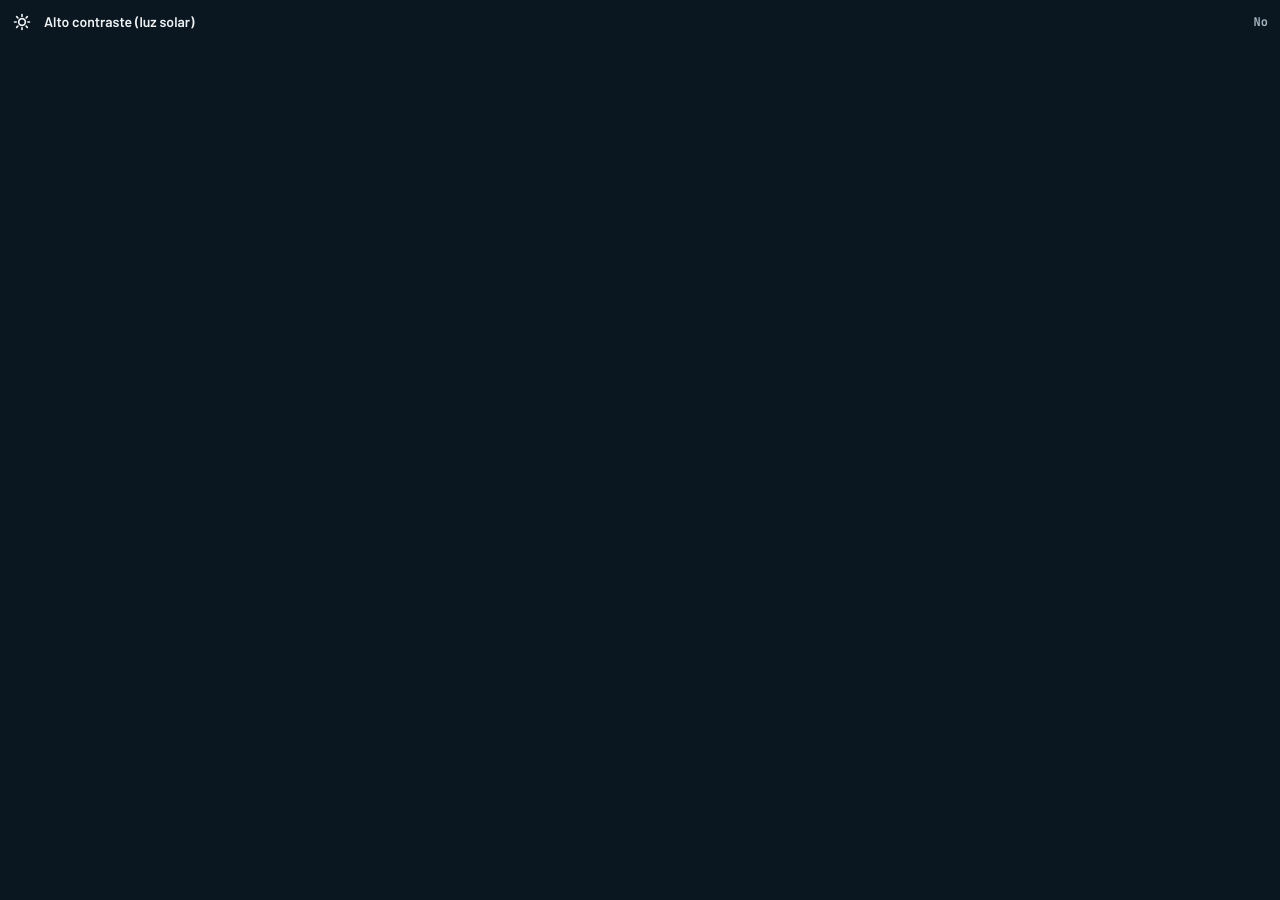
Test: interruptor de alto contraste › activa el tema claro, lo recuerda y se puede apagar
Later steps or results of the test are not shown.
Click the switch with test id "theme-toggle" at (119, 22), box [0, 0, 1279, 44]
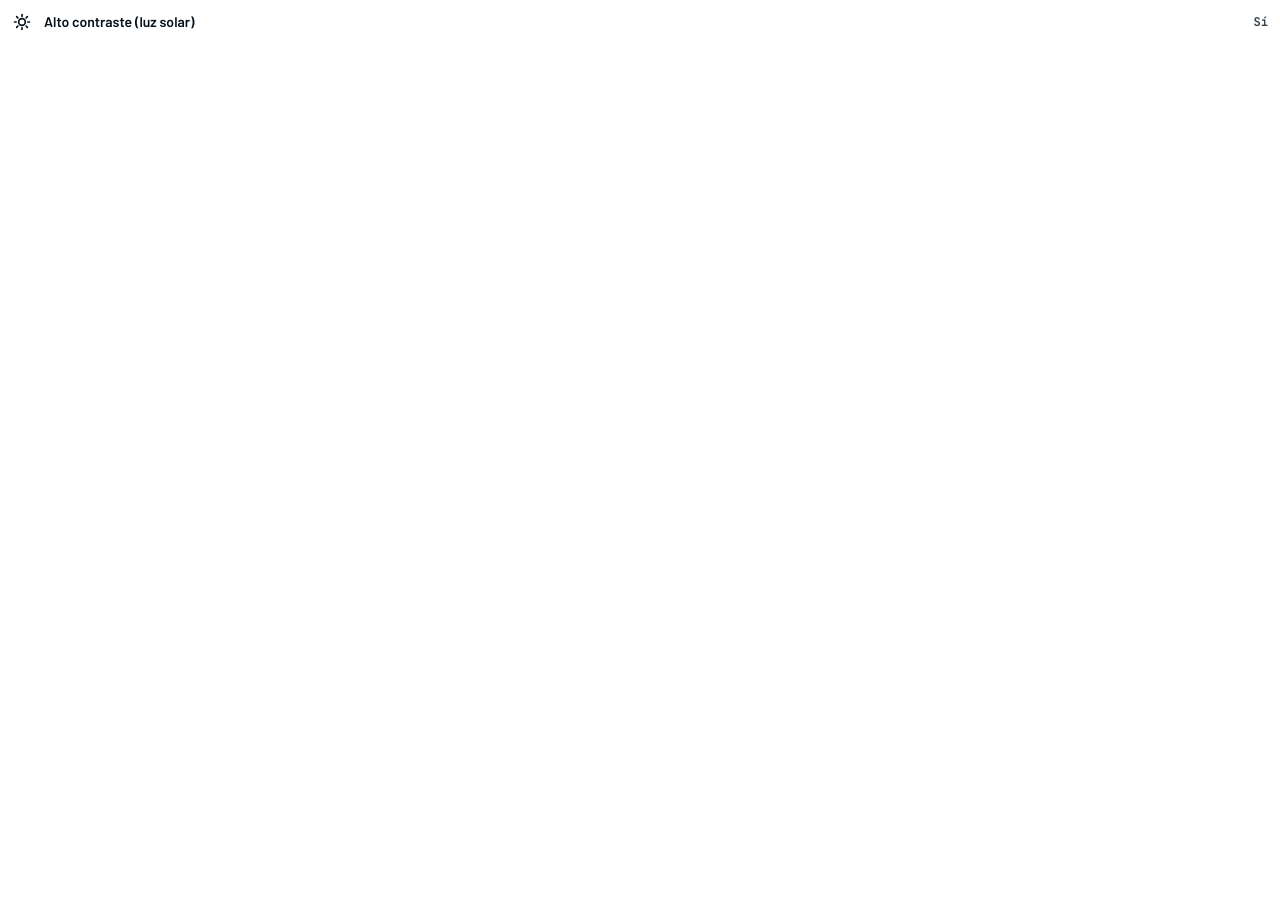
Check: the switch with test id "theme-toggle" shows "Sí", box [0, 0, 1279, 44]
